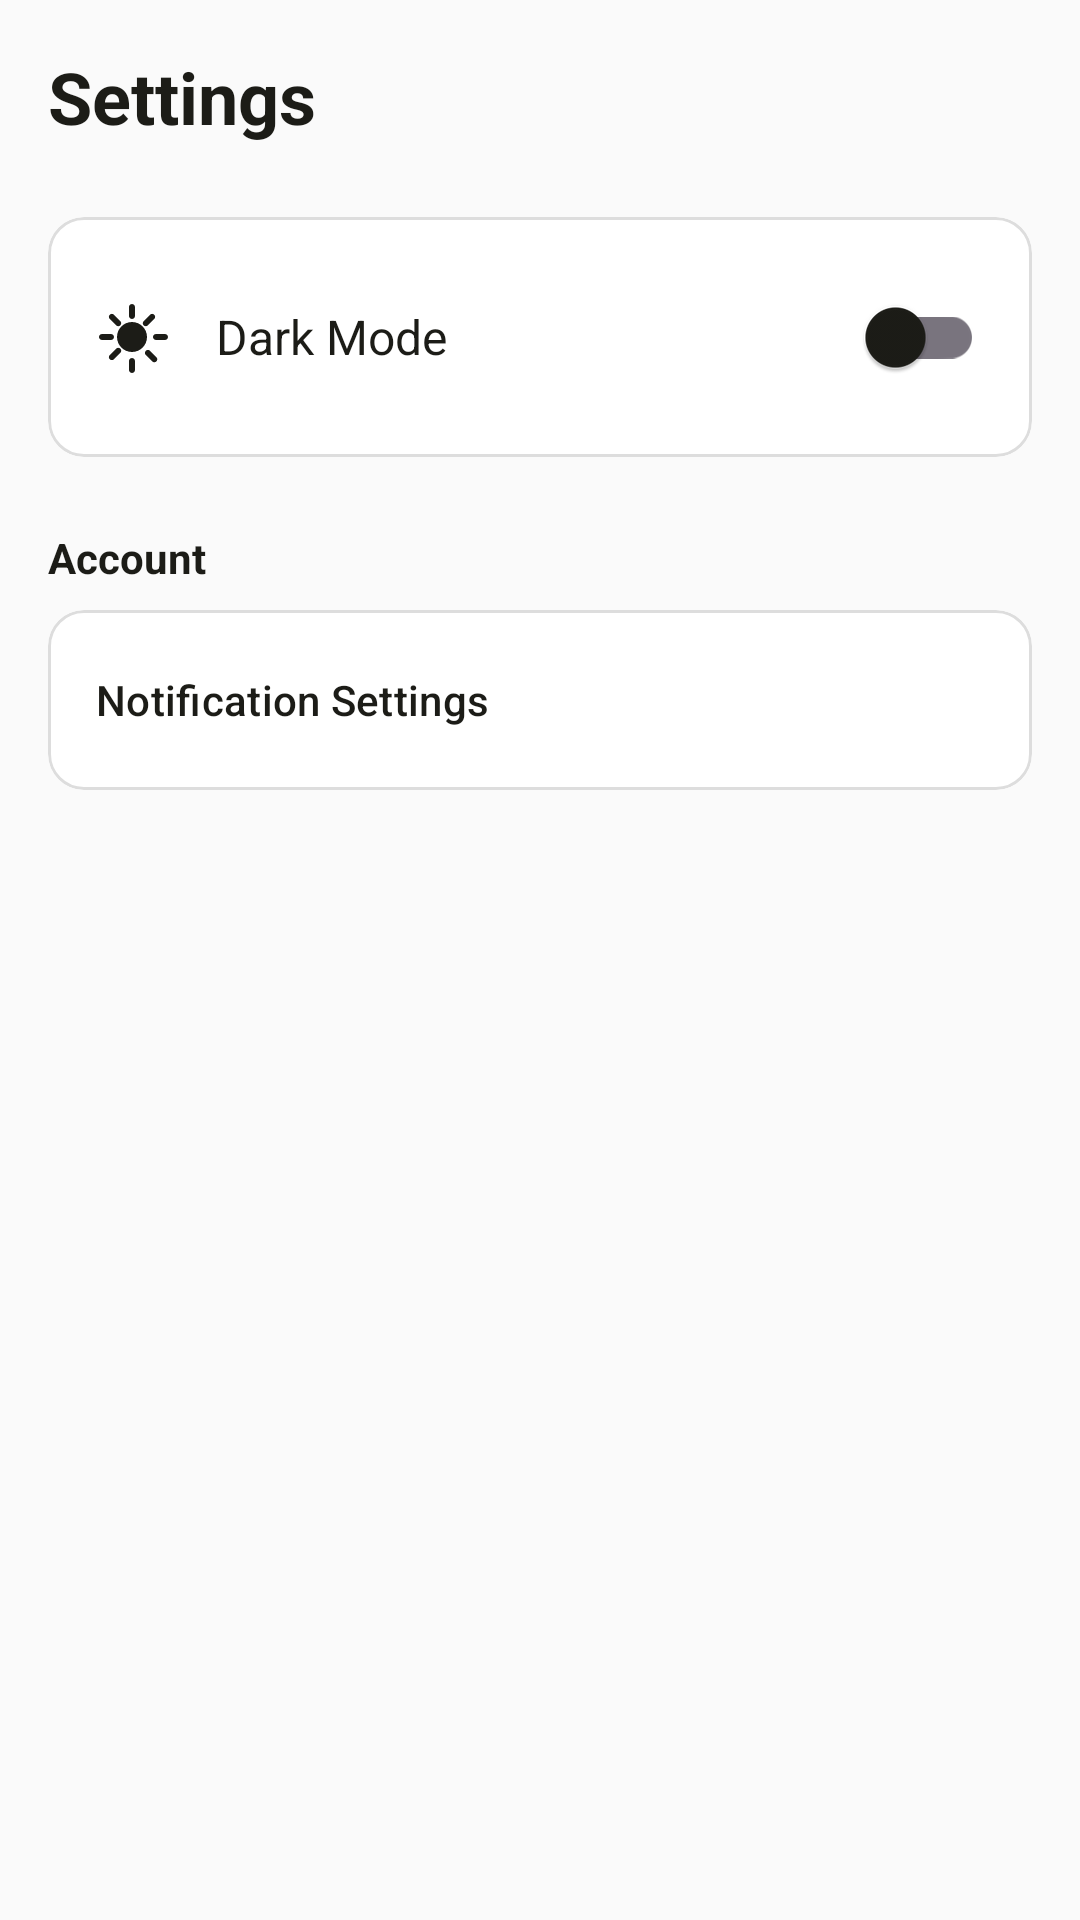

Point at icon controls on the screen. Image size 1080 × 1920, points as (x,y).
sun: (133,338)
